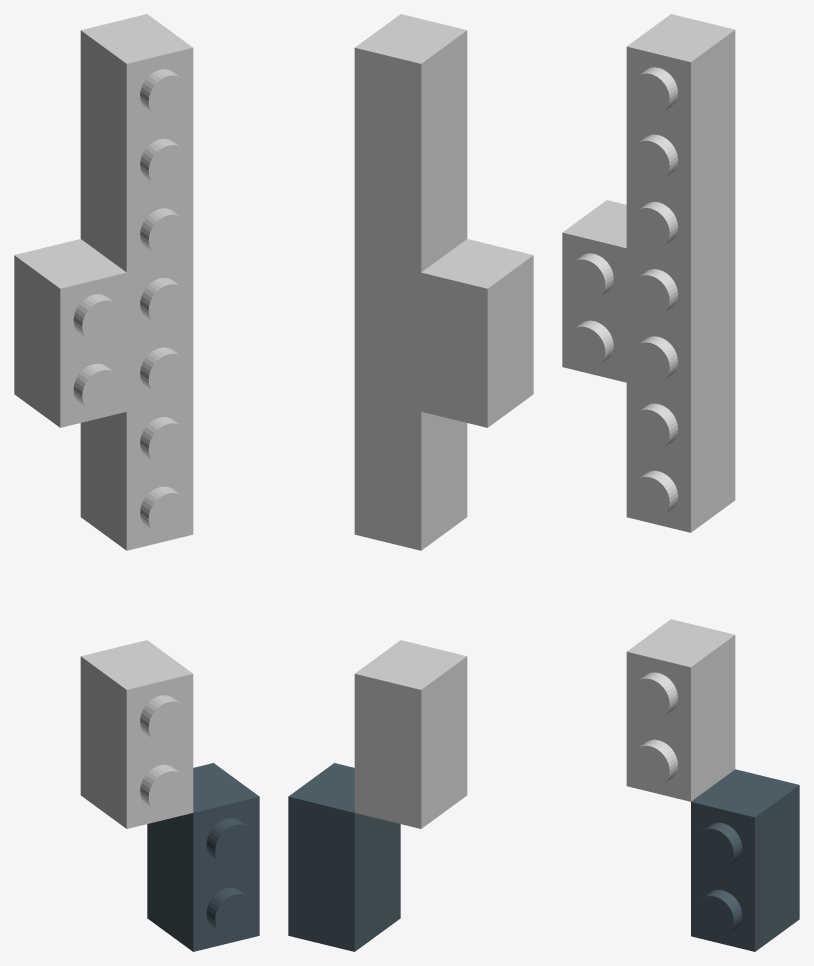
File: current.glb
3 views of the same model, side by side, from view 1: azimuth 30°, elevation 25°; view 2: azimuth 150°, elevation 25°; view 3: azimuth 330°, elevation 25° (orthographic). The views are drawn at different scales.
Visible parts, largest first — view 1: world; view 2: world; view 3: world.
Part boxes in pixels (x1,y1,x2,y2): world: [14, 14, 259, 951]; world: [288, 14, 533, 951]; world: [562, 14, 799, 951].
Bounding box in the file's own units: 24 × 104 × 11.4.
